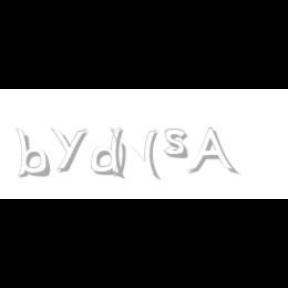A: (188, 128, 236, 176)
N: (110, 128, 158, 180)
b: (15, 128, 53, 178)
d: (92, 128, 128, 180)
s: (164, 128, 192, 160)
y: (51, 128, 91, 172)
